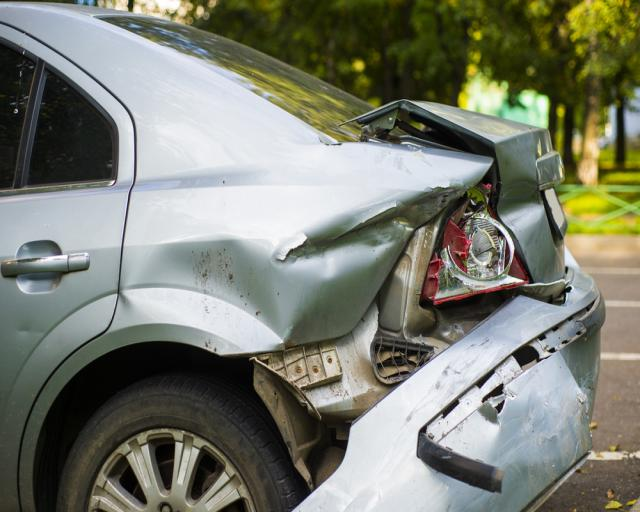dent: (126, 188, 465, 344), (498, 157, 543, 230)
lamp broken: (425, 174, 530, 306)
scratch: (396, 335, 513, 426)
